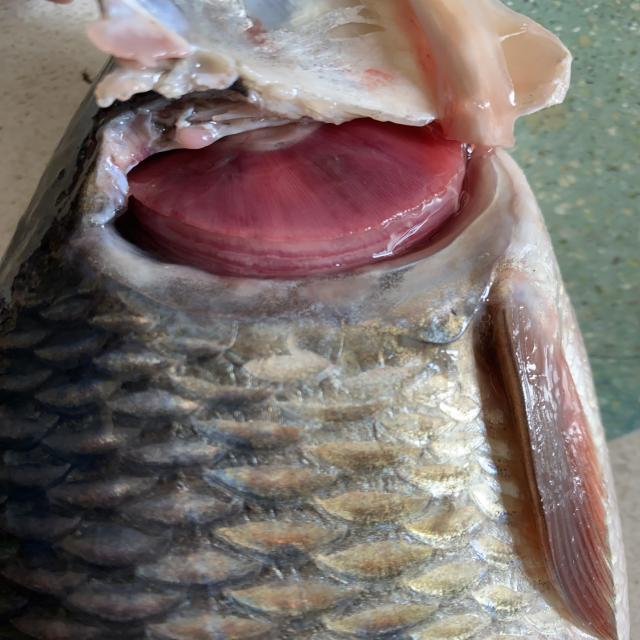Fresh: (80, 106, 579, 321)
